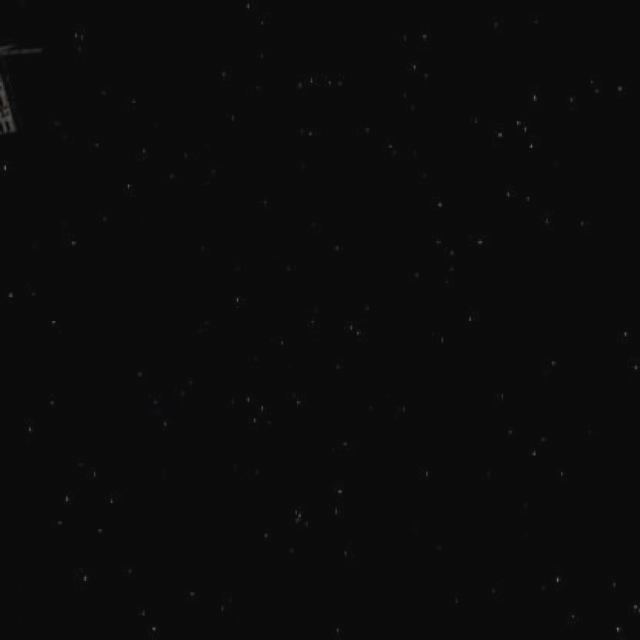medium_debris: (0, 6, 44, 158)
